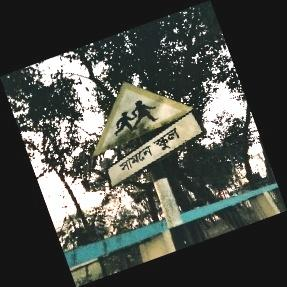School-in-front: (93, 82, 201, 187)
